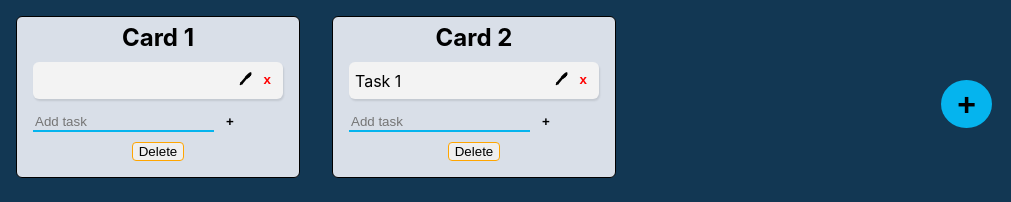
CardSlice › should add a new card
The width and height of the screenshot is (1011, 202).
Click the button with test id "add-card" at [967, 104], box [941,80,992,128]
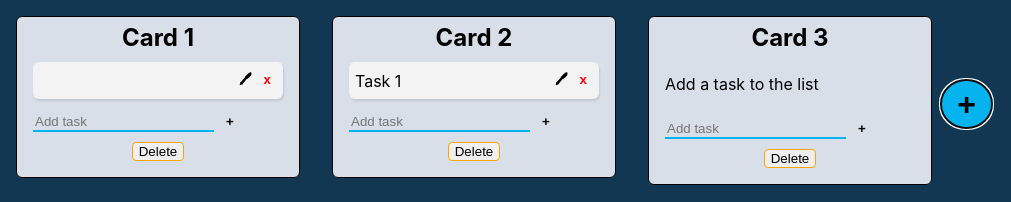
Check: the heading "Card 3" is shown, box [751,23,829,52]
